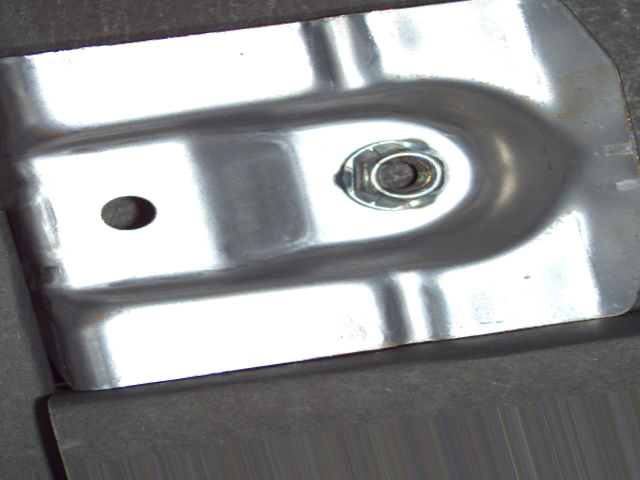good: (332, 134, 454, 212)
